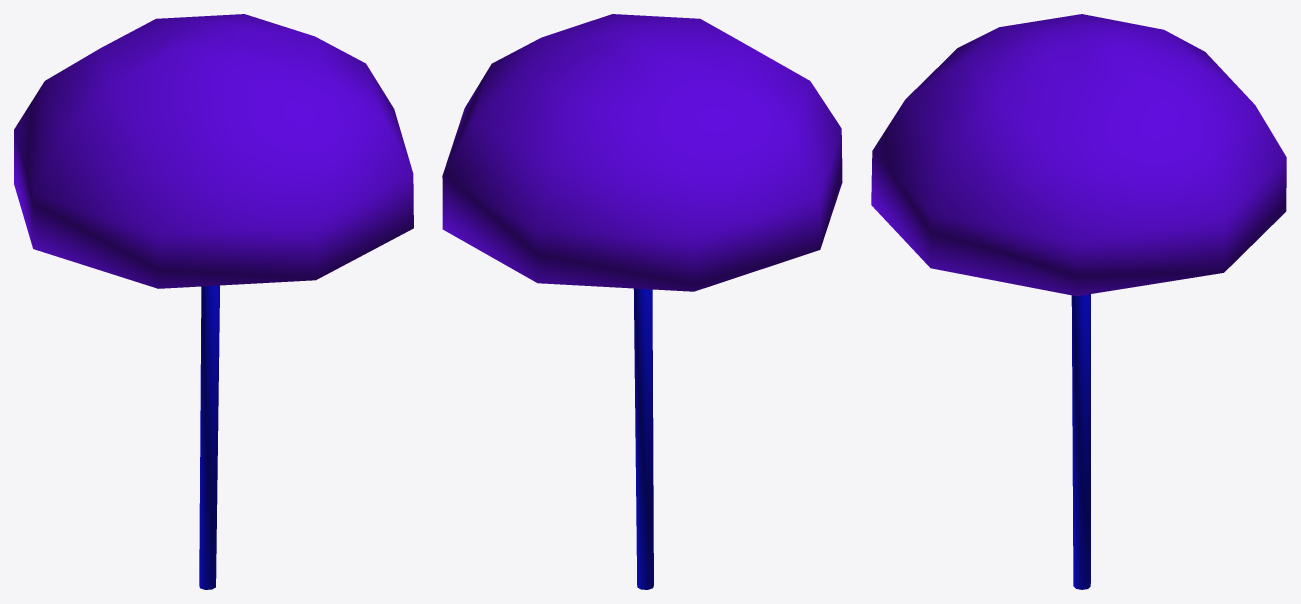
The model's file is Sombrilla.fbx.
3 renders of one model, left to right at view 1: azimuth 30°, elevation 25°; view 2: azimuth 150°, elevation 25°; view 3: azimuth 270°, elevation 25°, orthographic.
Visible parts, largest first — view 1: Sultry Reef.003; view 2: Sultry Reef.003; view 3: Sultry Reef.003.
Boxes of the visible parts, box(x1,y1,x2,y2) form: Sultry Reef.003: box(14, 14, 413, 589); Sultry Reef.003: box(442, 14, 842, 589); Sultry Reef.003: box(871, 14, 1286, 589).
Size of the model in its own units: 1.44 by 2.1 by 1.44.
